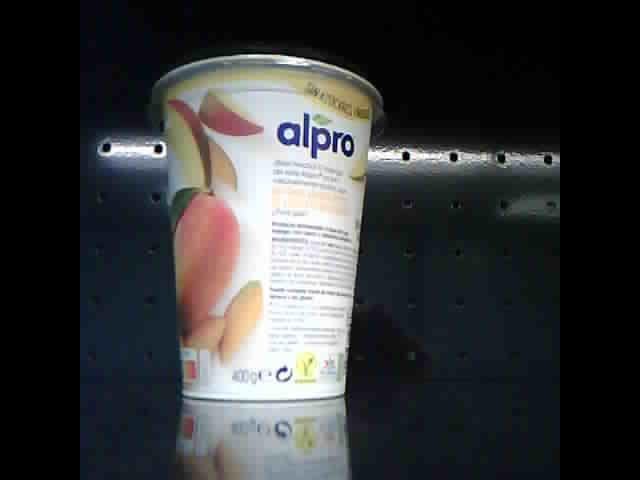alpro: (147, 42, 385, 405)
